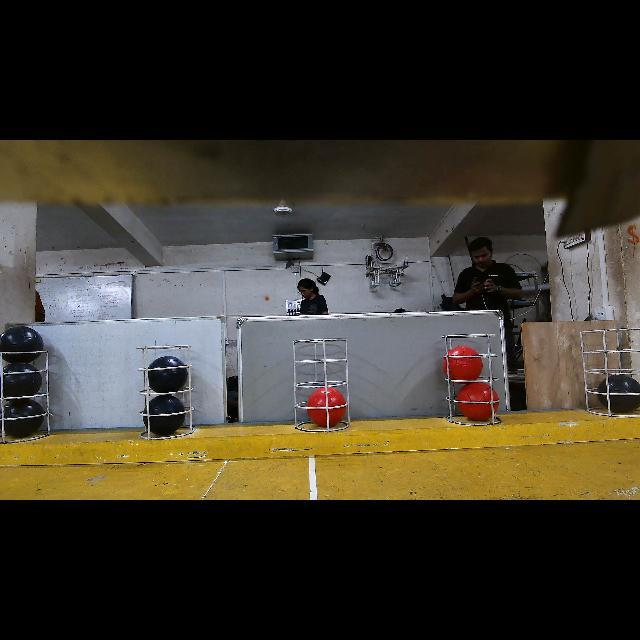P: (598, 374, 640, 414), (1, 361, 43, 401), (144, 395, 183, 434), (148, 356, 188, 393), (1, 325, 41, 361), (4, 401, 41, 439)
R: (458, 382, 498, 421), (443, 345, 483, 384), (309, 388, 346, 426)
S: (575, 324, 640, 423), (445, 333, 507, 435), (132, 346, 195, 439), (290, 334, 352, 428), (0, 348, 46, 442)
